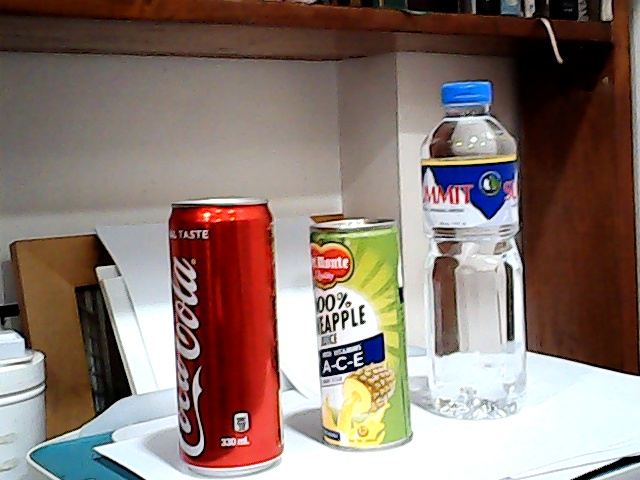Pine Juice: (301, 210, 419, 457)
Summit Water: (411, 80, 542, 424), (153, 193, 291, 473)
